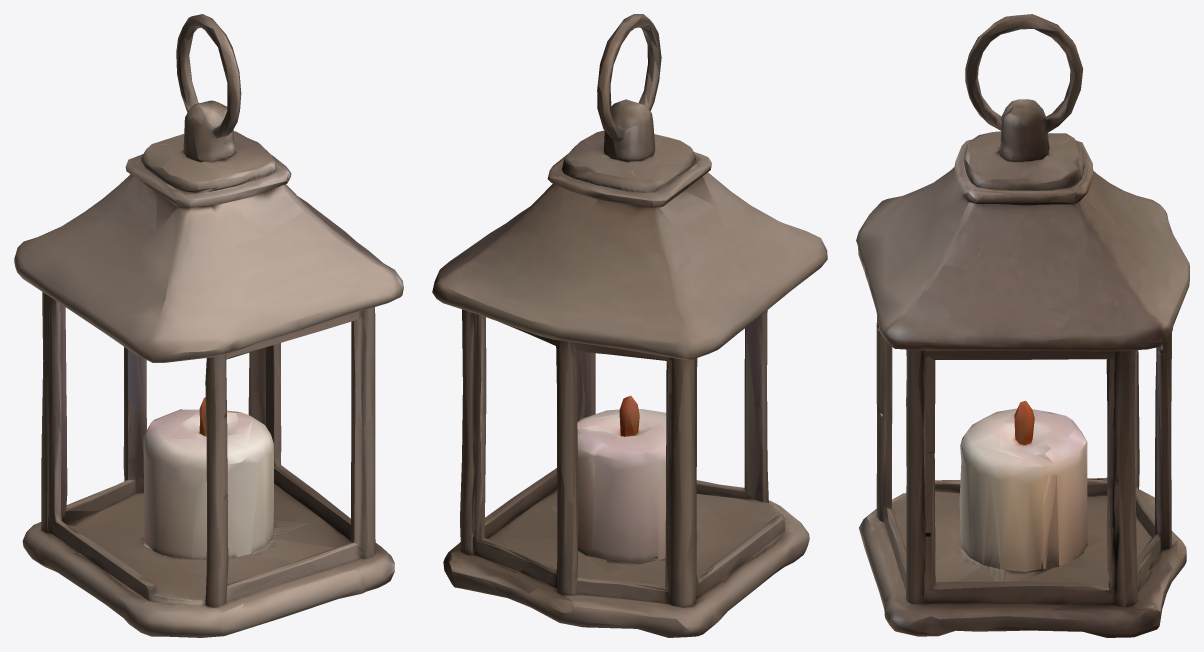
The model's file is lantern.glb.
3 views of the same model, side by side, from view 1: azimuth 30°, elevation 25°; view 2: azimuth 150°, elevation 25°; view 3: azimuth 270°, elevation 25° (orthographic). The views are drawn at different scales.
Visible parts, largest first — view 1: tripo_node_48748a4f-06aa-4dfa-9115-ab20aedd9ee8; view 2: tripo_node_48748a4f-06aa-4dfa-9115-ab20aedd9ee8; view 3: tripo_node_48748a4f-06aa-4dfa-9115-ab20aedd9ee8.
Boxes of the visible parts, x1=… form: tripo_node_48748a4f-06aa-4dfa-9115-ab20aedd9ee8: x1=14, y1=14, x2=403, y2=637; tripo_node_48748a4f-06aa-4dfa-9115-ab20aedd9ee8: x1=432, y1=14, x2=827, y2=637; tripo_node_48748a4f-06aa-4dfa-9115-ab20aedd9ee8: x1=856, y1=14, x2=1189, y2=637.
Size of the model in its own units: 0.2805 by 0.5194 by 0.2803.
Materials: 1 (1 with a texture image).
